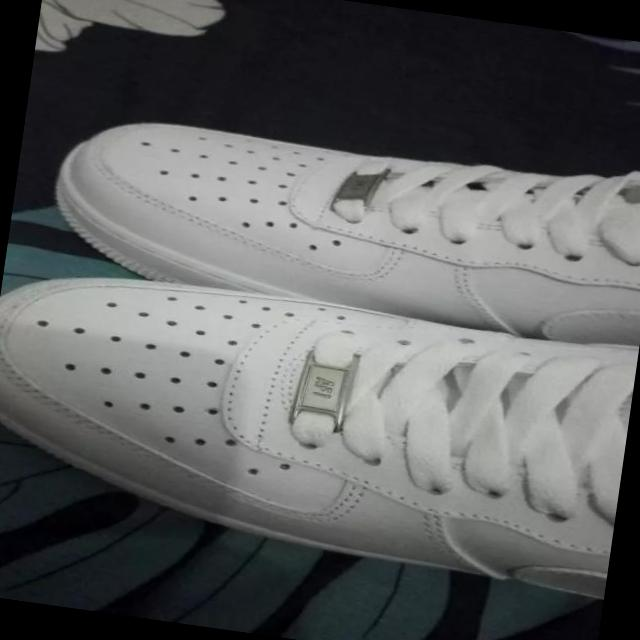nike_original_airforce: (0, 254, 639, 589), (41, 79, 640, 353)
